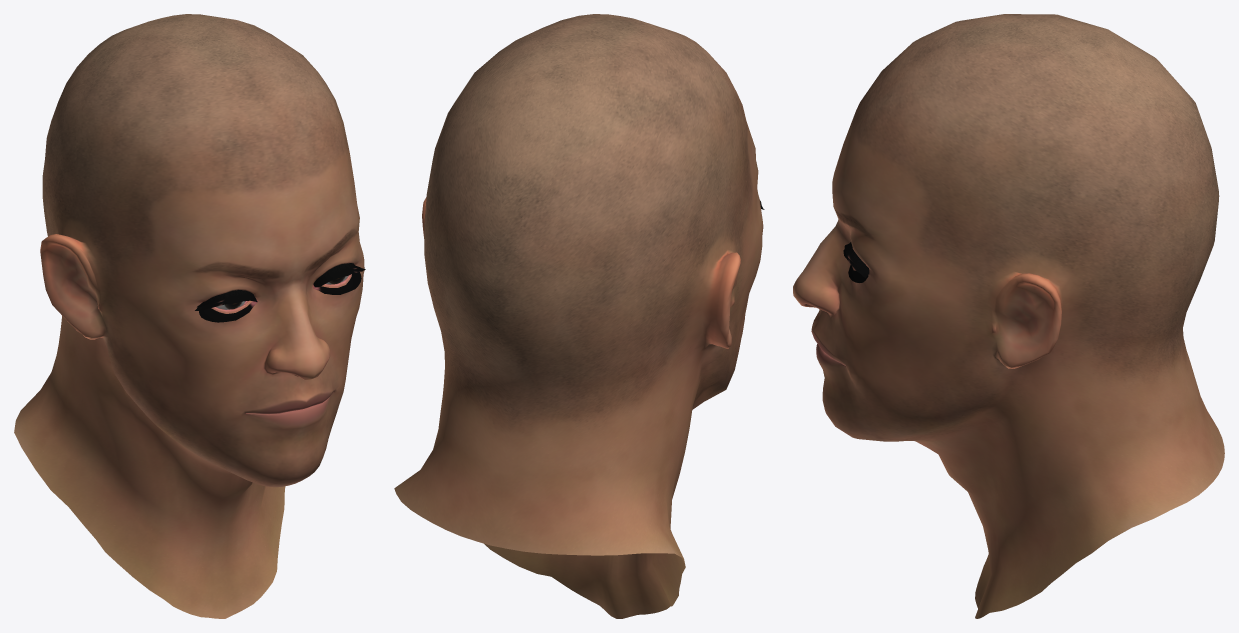
Rendered from Avatar_Shieh.fbx.
3 renders of one model, left to right at view 1: azimuth 30°, elevation 25°; view 2: azimuth 150°, elevation 25°; view 3: azimuth 270°, elevation 25°, orthographic. The views are drawn at different scales.
Parts seen in each view (by area): view 1: Head; view 2: Head; view 3: Head.
Boxes of the visible parts, left/top/right/bottom form: Head: left=14, top=14, right=365, bottom=618; Head: left=394, top=14, right=764, bottom=618; Head: left=793, top=14, right=1224, bottom=618.
Bounding box in the file's own units: 19.77 × 36.25 × 24.28.
